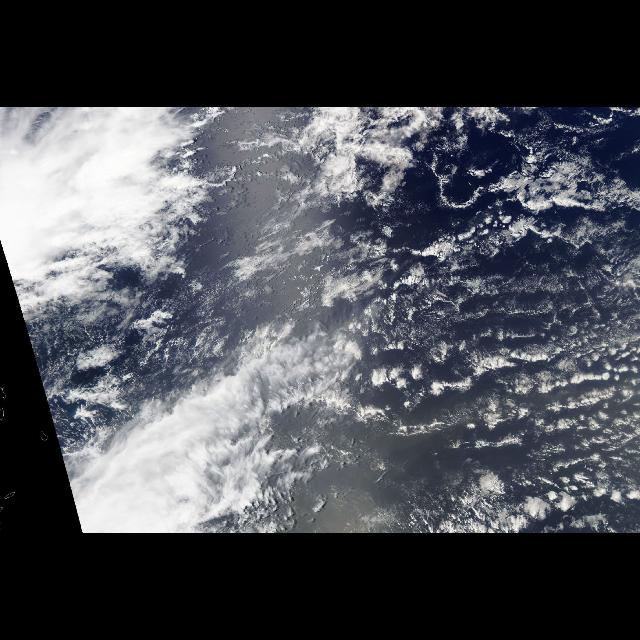Sugar: (374, 266, 638, 348), (31, 302, 226, 406)
